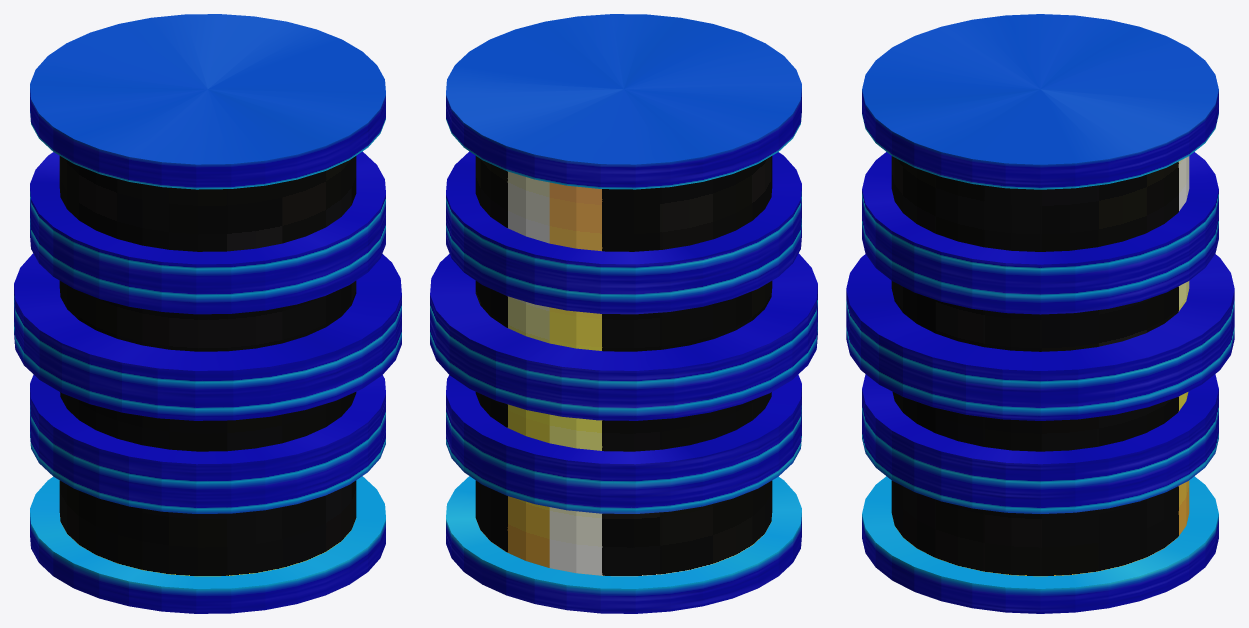
File: temporal_connection_amplifier.obj
3 renders of one model, left to right at view 1: azimuth 30°, elevation 25°; view 2: azimuth 150°, elevation 25°; view 3: azimuth 270°, elevation 25°, orthographic.
Parts seen in each view (by area): view 1: Cylinder.001; view 2: Cylinder.001; view 3: Cylinder.001.
Part boxes in pixels (bbox=[...]): Cylinder.001: bbox=[14, 14, 401, 613]; Cylinder.001: bbox=[430, 14, 817, 613]; Cylinder.001: bbox=[846, 14, 1234, 613].
Size of the model in its own units: 0.784 by 1 by 0.784.
